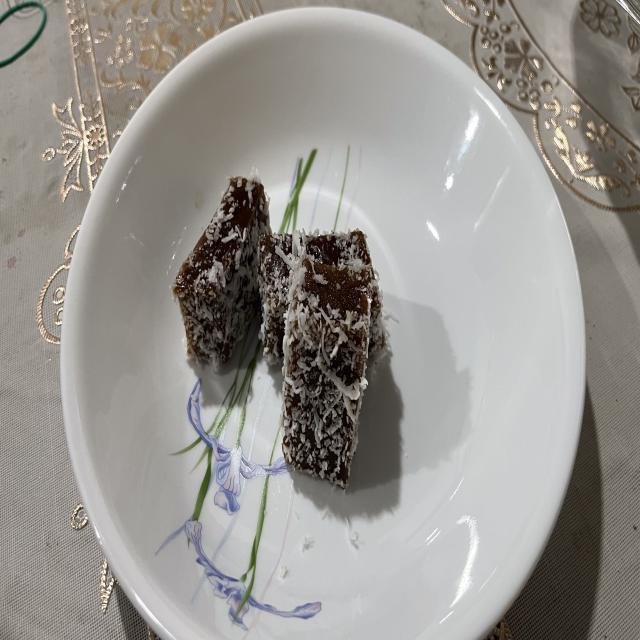kaswi: (282, 256, 371, 487), (172, 178, 270, 371), (255, 227, 389, 367)
